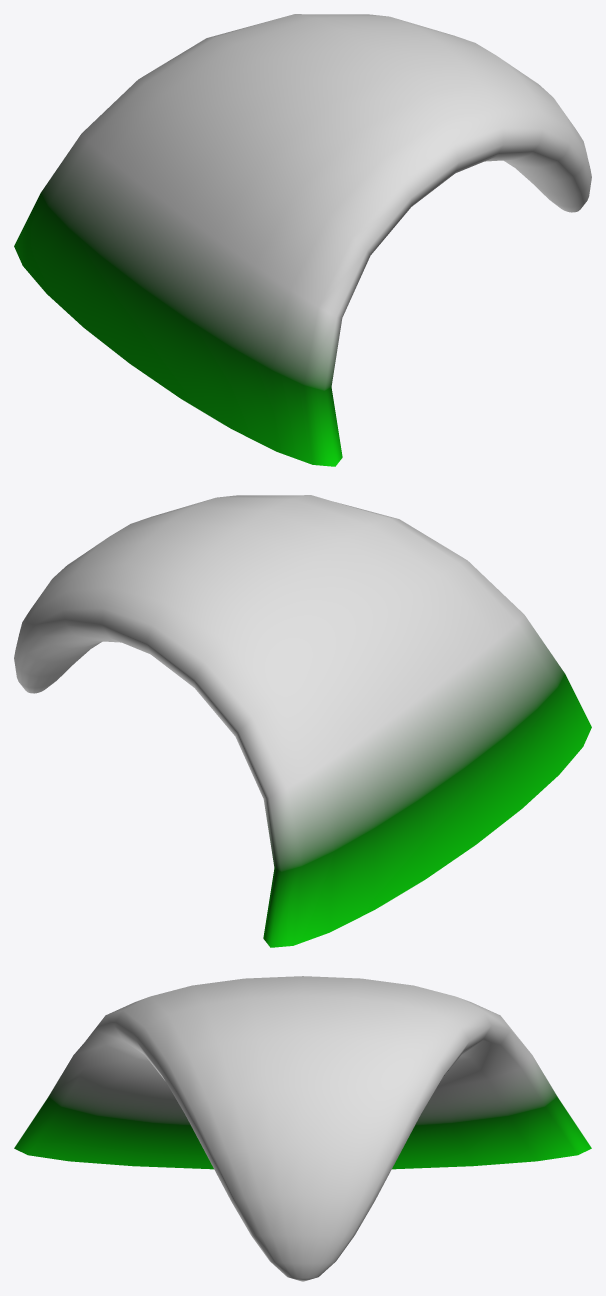
File: TsunamiSphere2.fbx
3 views of the same model, one above another, from view 1: azimuth 30°, elevation 25°; view 2: azimuth 150°, elevation 25°; view 3: azimuth 270°, elevation 25° (orthographic). The views are drawn at different scales.
Visible parts, largest first — view 1: TsunamiSphere2; view 2: TsunamiSphere2; view 3: TsunamiSphere2.
Part boxes in pixels (box(x1,y1,x2,y2)): TsunamiSphere2: box(14, 14, 591, 466); TsunamiSphere2: box(14, 495, 591, 947); TsunamiSphere2: box(14, 976, 591, 1281).
Size of the model in its own units: 113 by 61.46 by 136.
